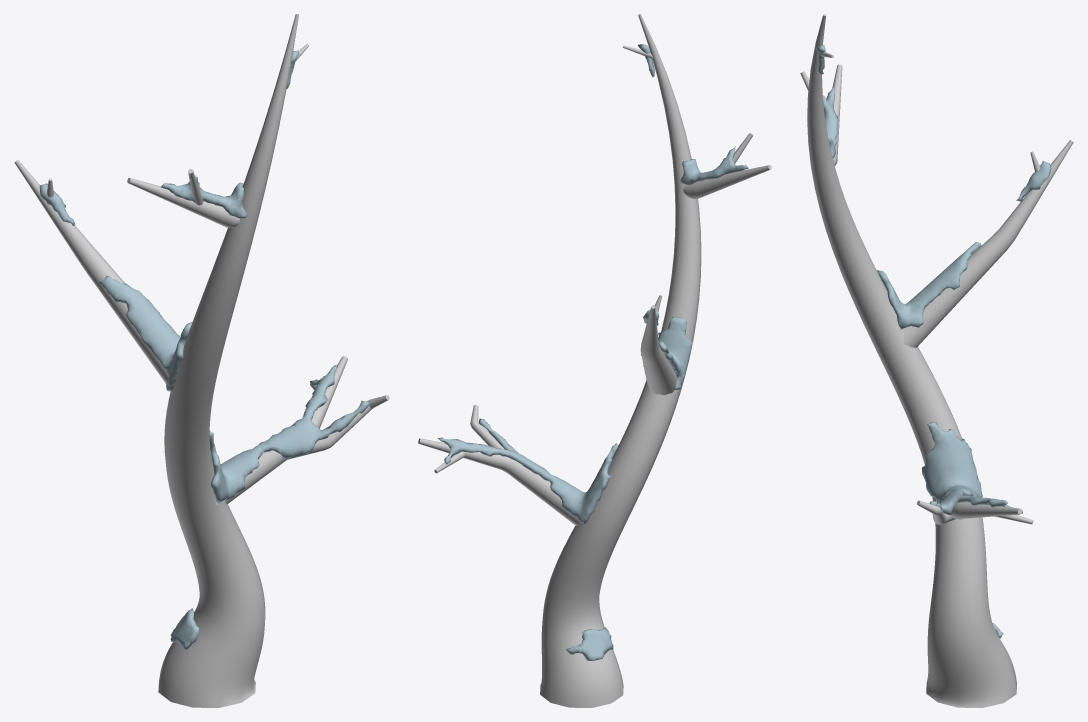
The model's file is BranchTree_2.obj.
3 views of the same model, side by side, from view 1: azimuth 30°, elevation 25°; view 2: azimuth 150°, elevation 25°; view 3: azimuth 270°, elevation 25° (orthographic). The views are drawn at different scales.
Visible parts, largest first — view 1: Branch_Tree__2, Snow_on_Tree_Branch_2; view 2: Branch_Tree__2, Snow_on_Tree_Branch_2; view 3: Branch_Tree__2, Snow_on_Tree_Branch_2.
Part boxes in pixels (<box>): Branch_Tree__2: <box>14,14,389,707</box>; Snow_on_Tree_Branch_2: <box>39,50,369,650</box>; Branch_Tree__2: <box>418,14,771,707</box>; Snow_on_Tree_Branch_2: <box>438,44,748,660</box>; Branch_Tree__2: <box>800,14,1073,707</box>; Snow_on_Tree_Branch_2: <box>815,45,1051,638</box>.
Bounding box in the file's own units: 0.4529 × 0.998 × 0.3642.
